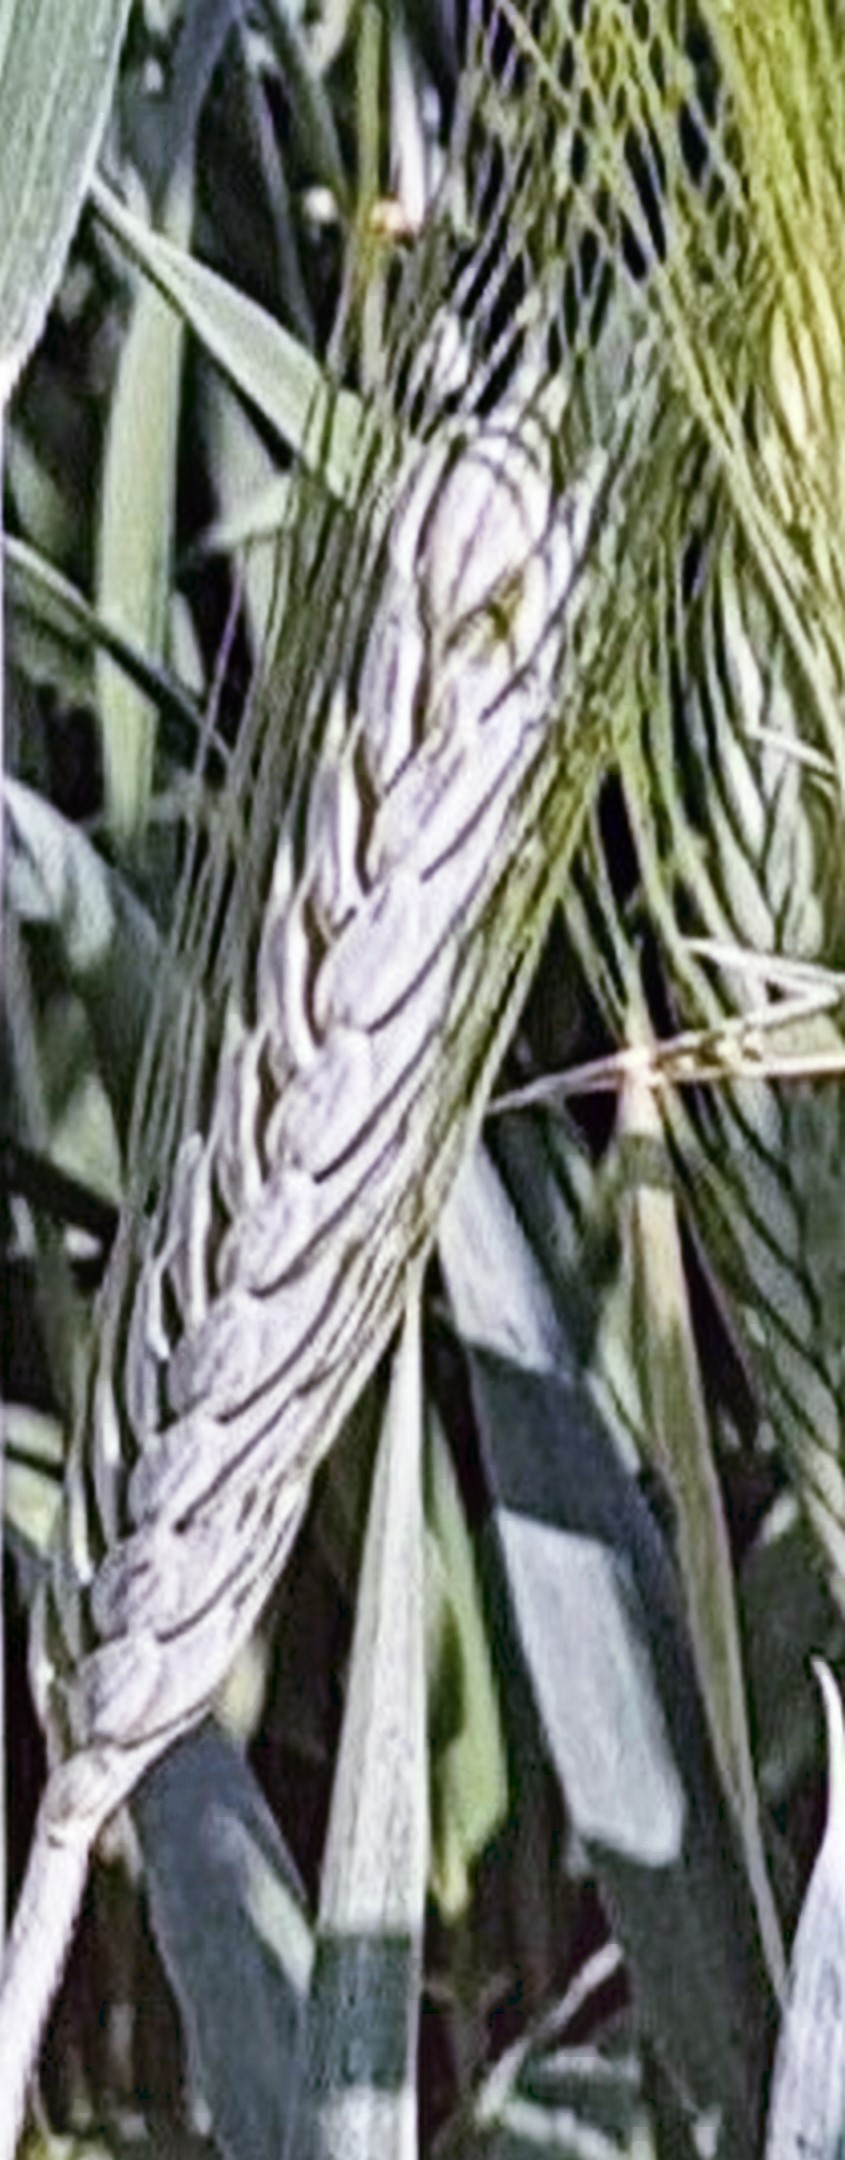Healthy Wheat: (51, 361, 656, 1747)
